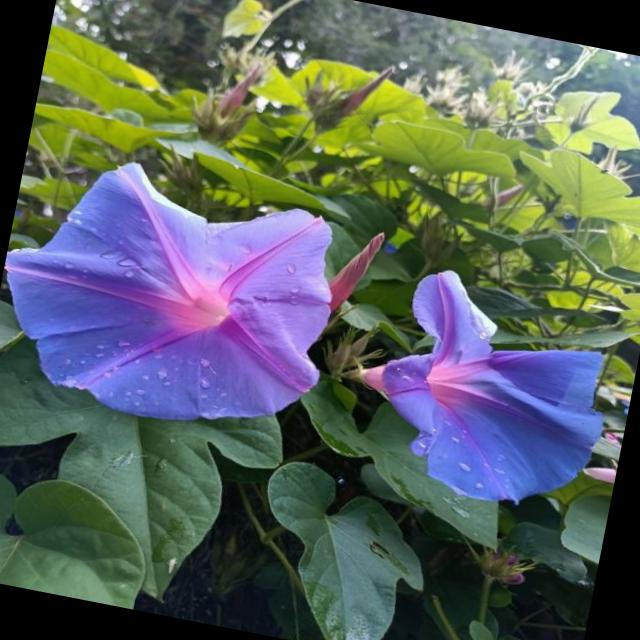ipomoea: (0, 140, 361, 453), (338, 254, 630, 524)
